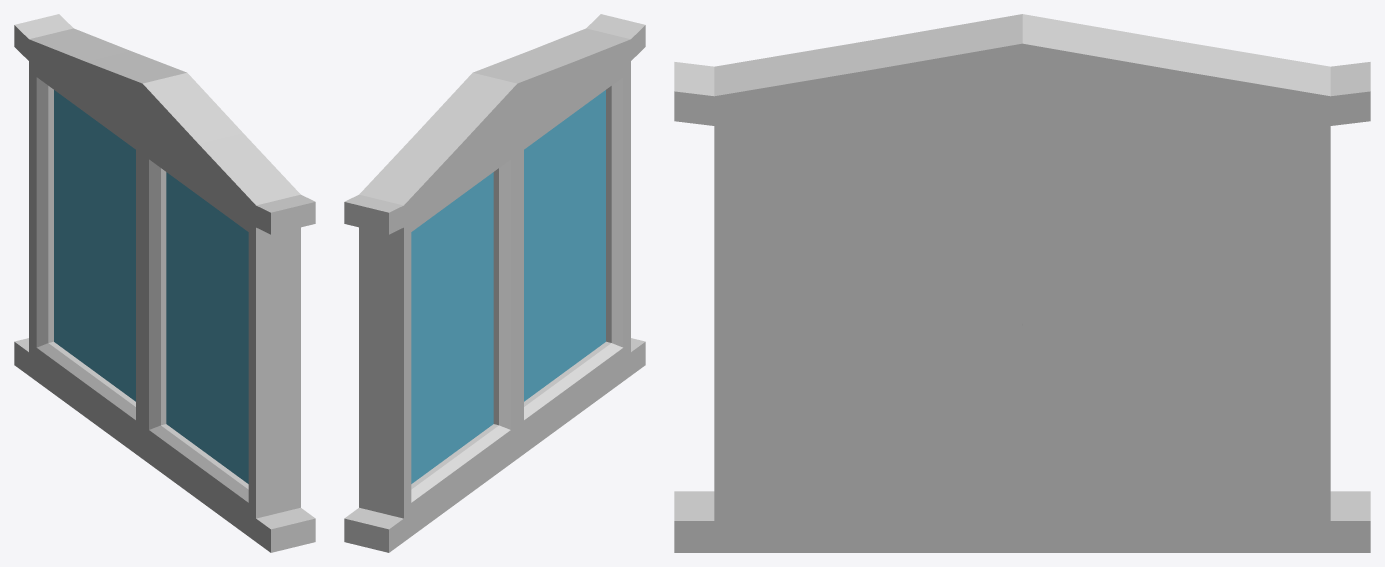
File: Window_Single.fbx
3 renders of one model, left to right at view 1: azimuth 30°, elevation 25°; view 2: azimuth 150°, elevation 25°; view 3: azimuth 270°, elevation 25°, orthographic. The views are drawn at different scales.
Parts seen in each view (by area): view 1: TwoWindow; view 2: TwoWindow; view 3: TwoWindow.
Part boxes in pixels (bbox=[...]): TwoWindow: bbox=[14, 14, 315, 552]; TwoWindow: bbox=[344, 14, 645, 552]; TwoWindow: bbox=[674, 14, 1370, 552].
Bounding box in the file's own units: 11.71 × 93.85 × 116.
